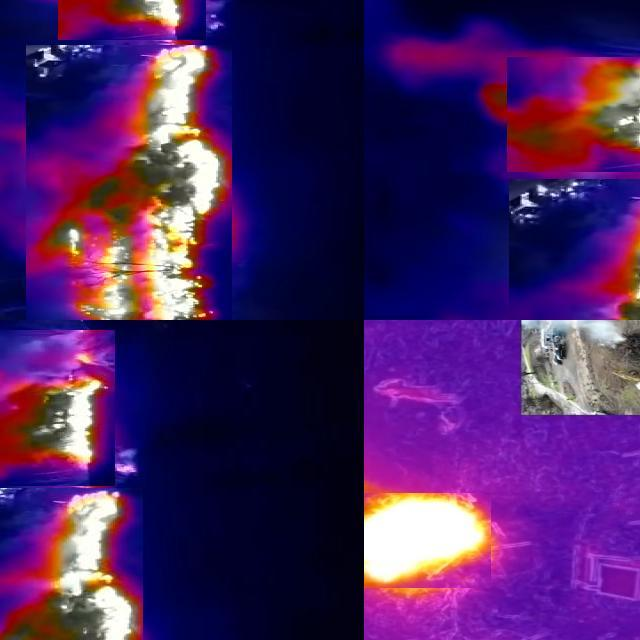fire: (27, 45, 233, 321), (1, 488, 144, 640), (510, 179, 640, 321), (1, 330, 116, 486), (508, 57, 640, 172), (365, 493, 492, 588), (59, 1, 207, 40)
